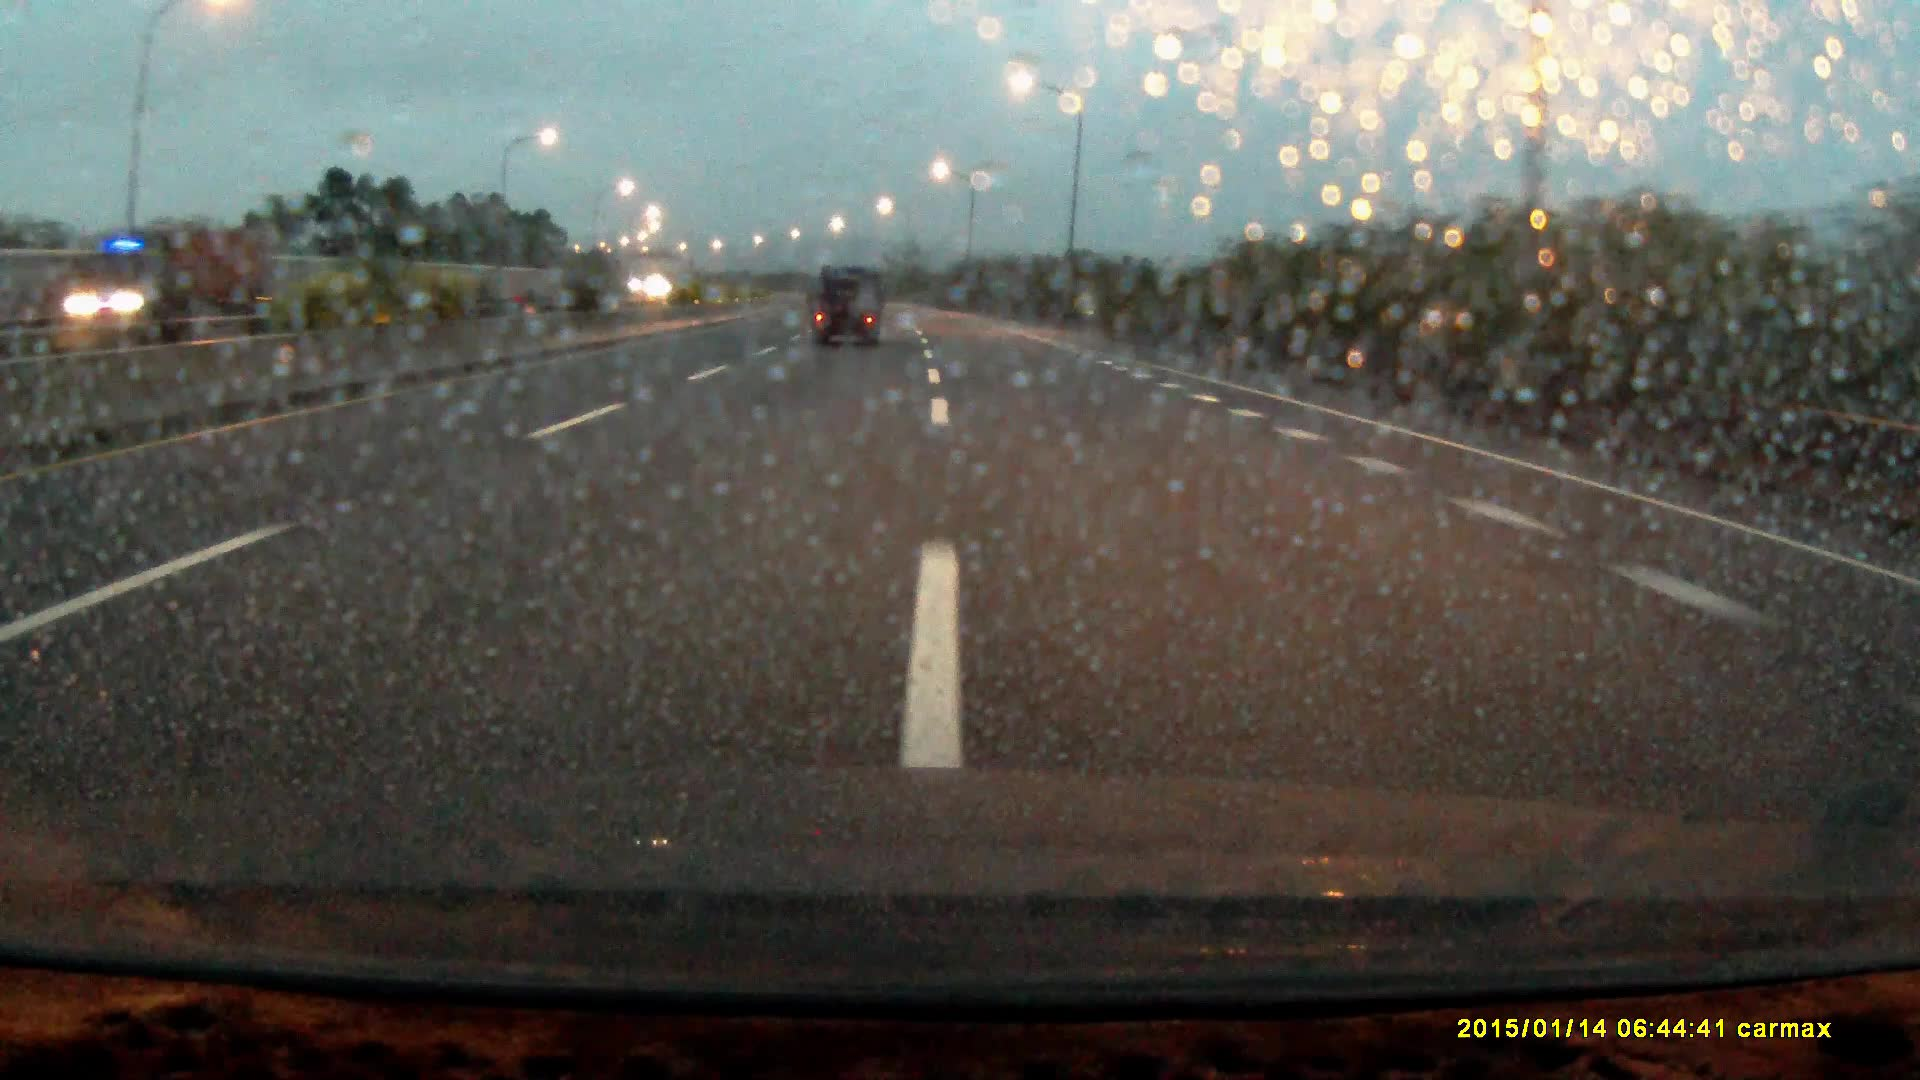vehicle: (40, 229, 264, 324), (807, 266, 884, 351)
